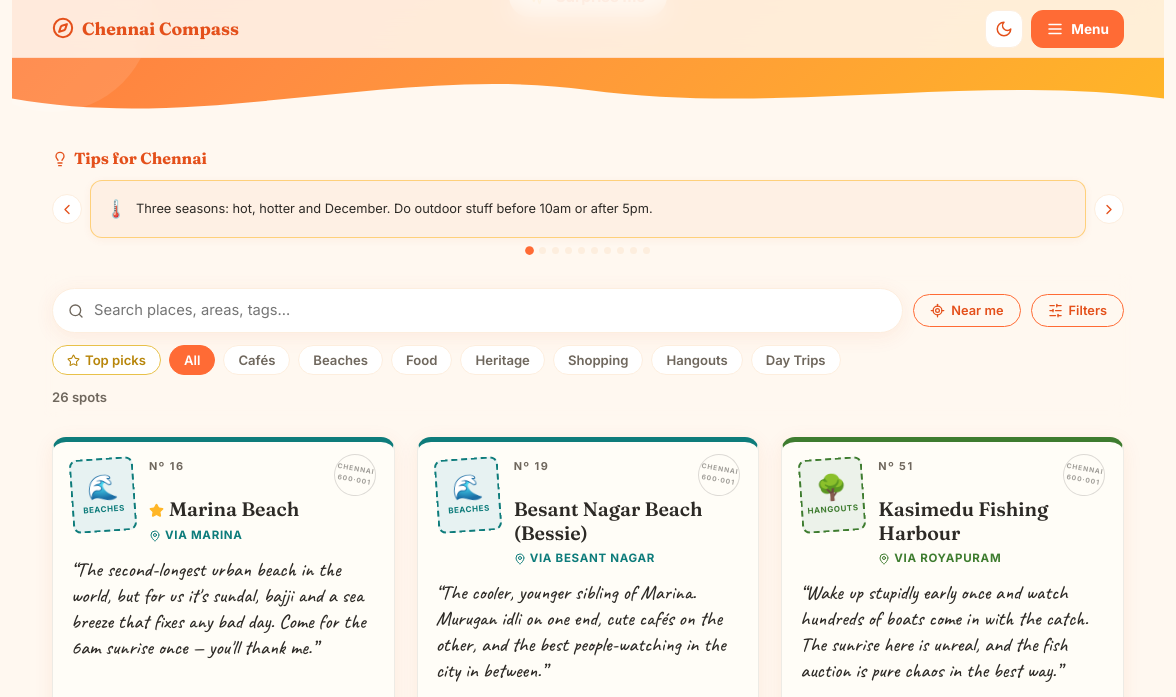
category-aware tag filter › clears the chosen tags when the category changes
The width and height of the screenshot is (1176, 697).
(page scrolled)
Click the button "Cafés".
click(257, 360)  # box [223,345,290,375]
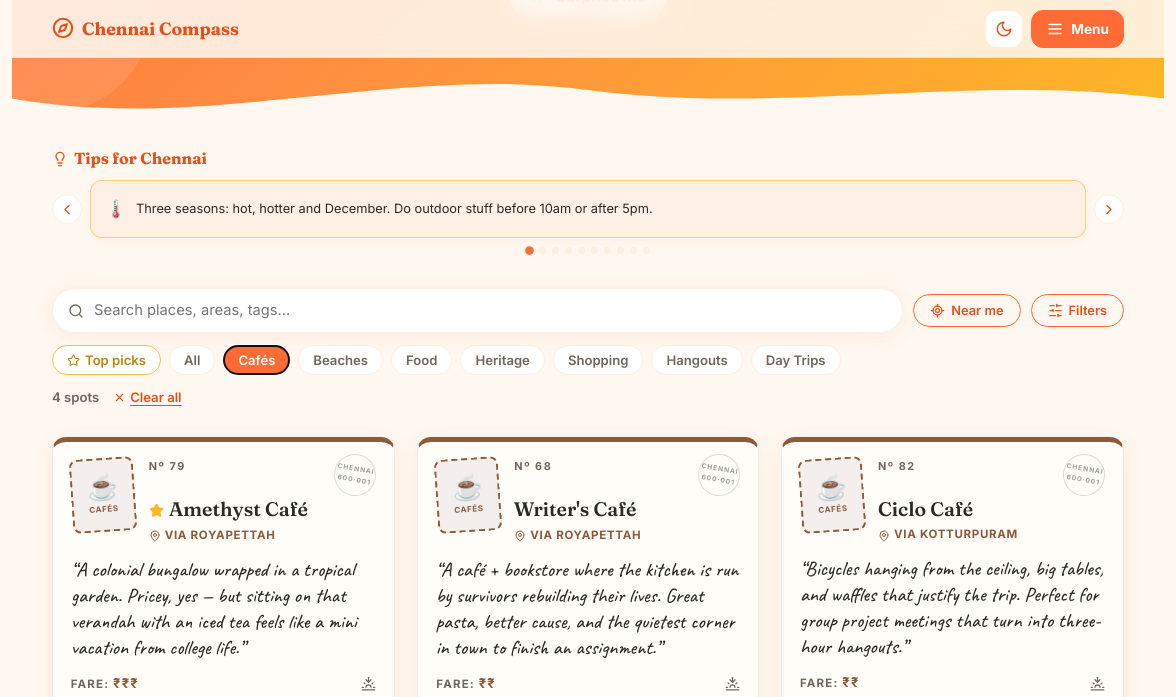
Click the button "Filters".
click(1077, 311)  # box [1030,294,1124,327]
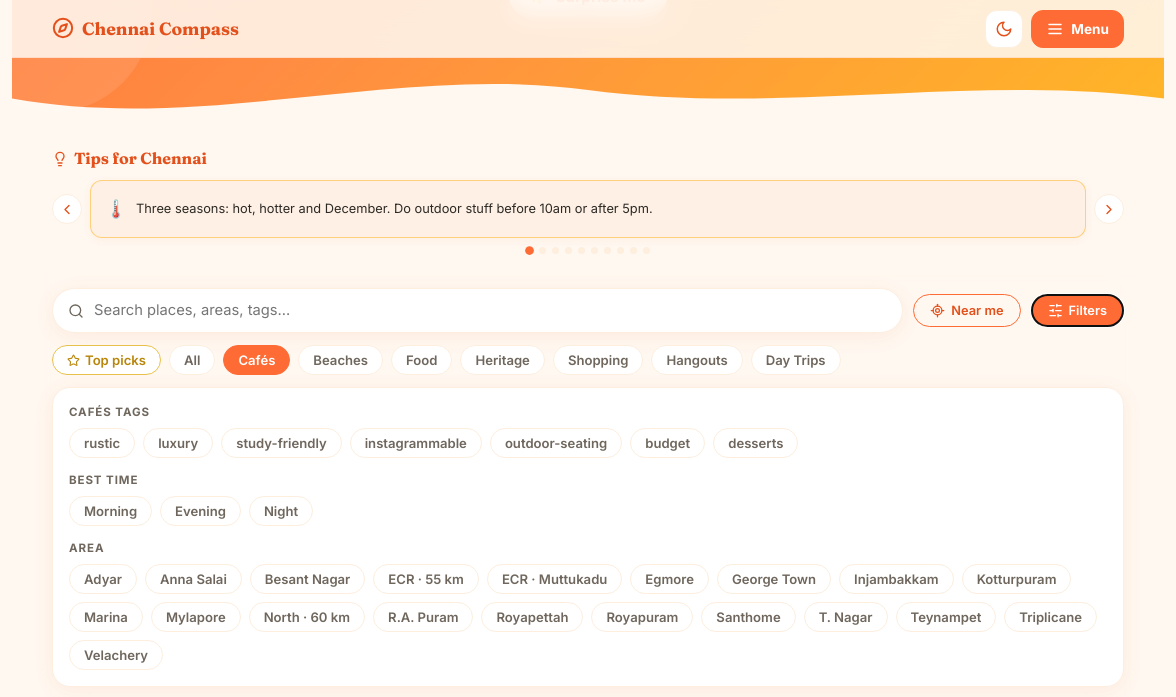
Click the button "rustic".
click(102, 443)  # box [69,428,135,458]
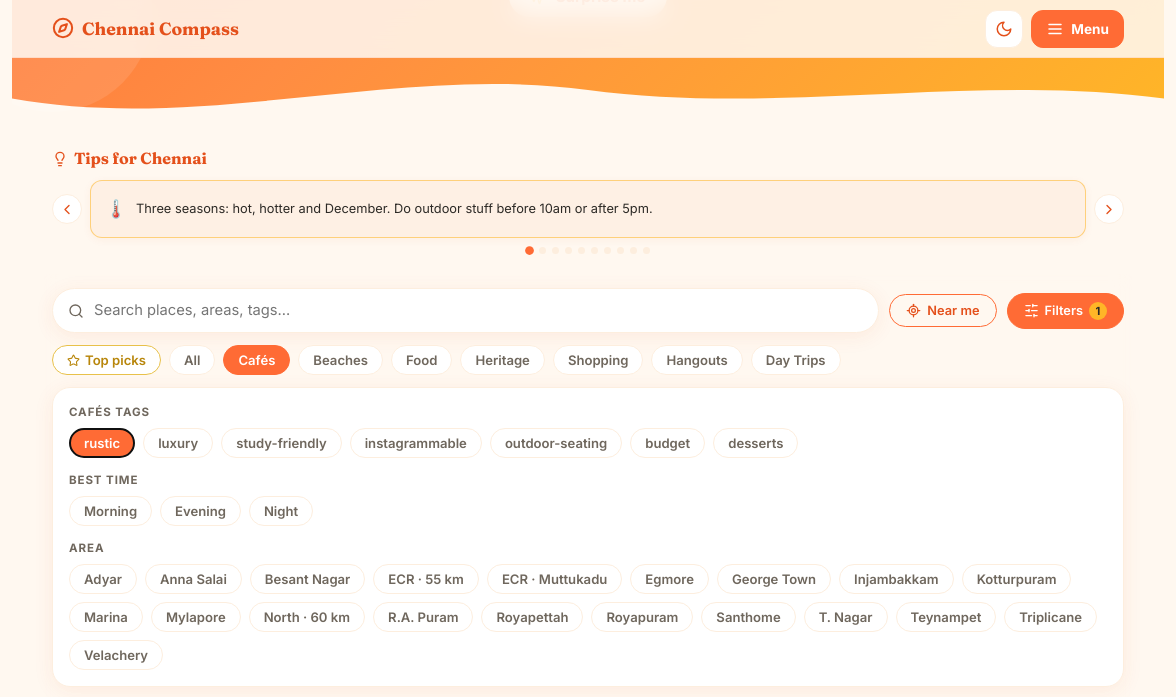
# switch category → café tags (and the rustic selection) are gone
Click the button "Beaches".
click(341, 360)  # box [298,345,383,375]
(page scrolled)
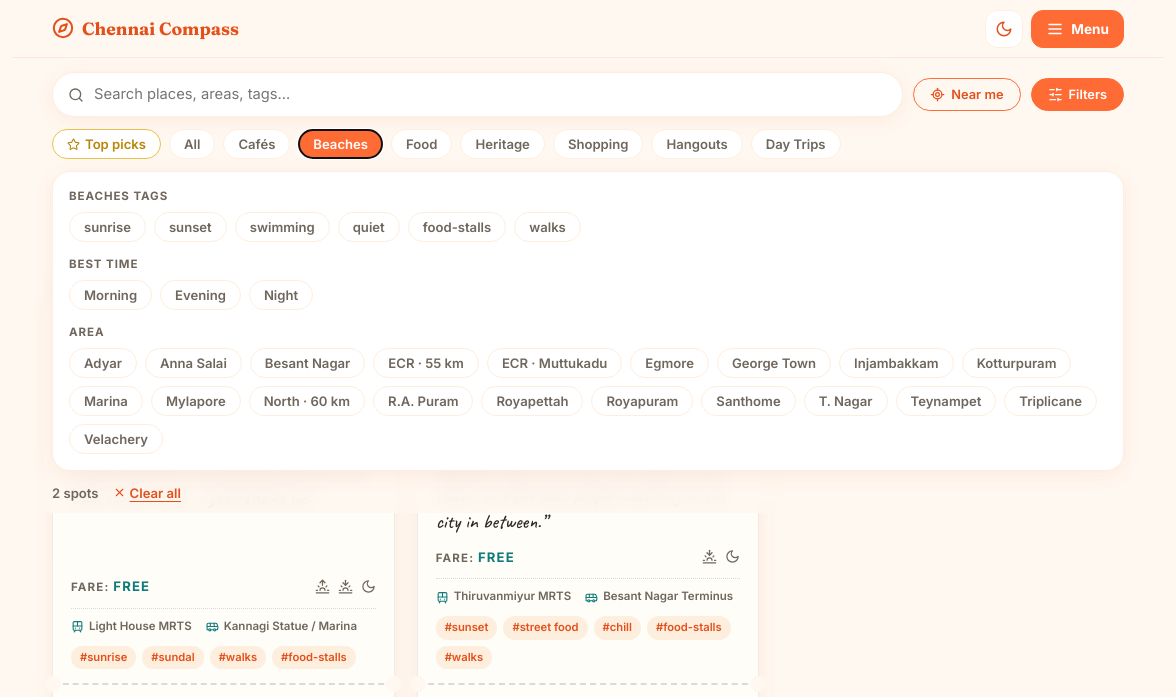
Expected: the button "rustic" is gone
Expected: the heading "Marina Beach" is shown, [149,348,299,372]
